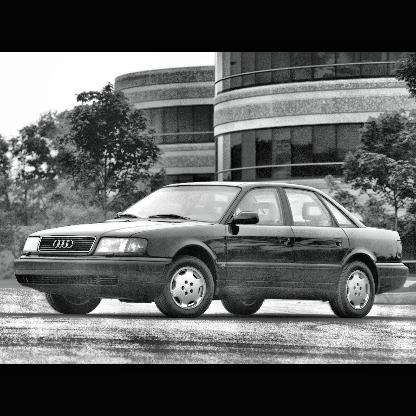Audi 100 Sedan 1994: (15, 182, 410, 323)
